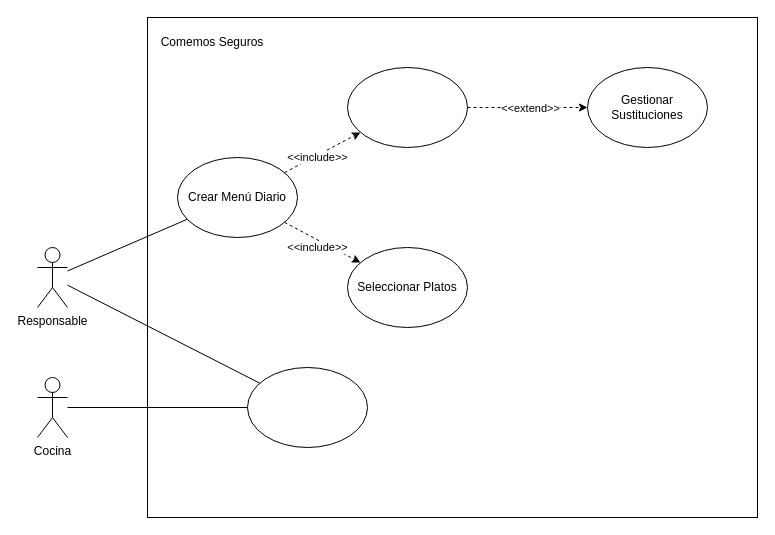
Some shapes in this 775 by 535 pixel diagram are drawn without their labels. Each missing label, with the centre of its shape:
Consultar Menú: [307,407]
Validar Compatibilidad: [407,107]
